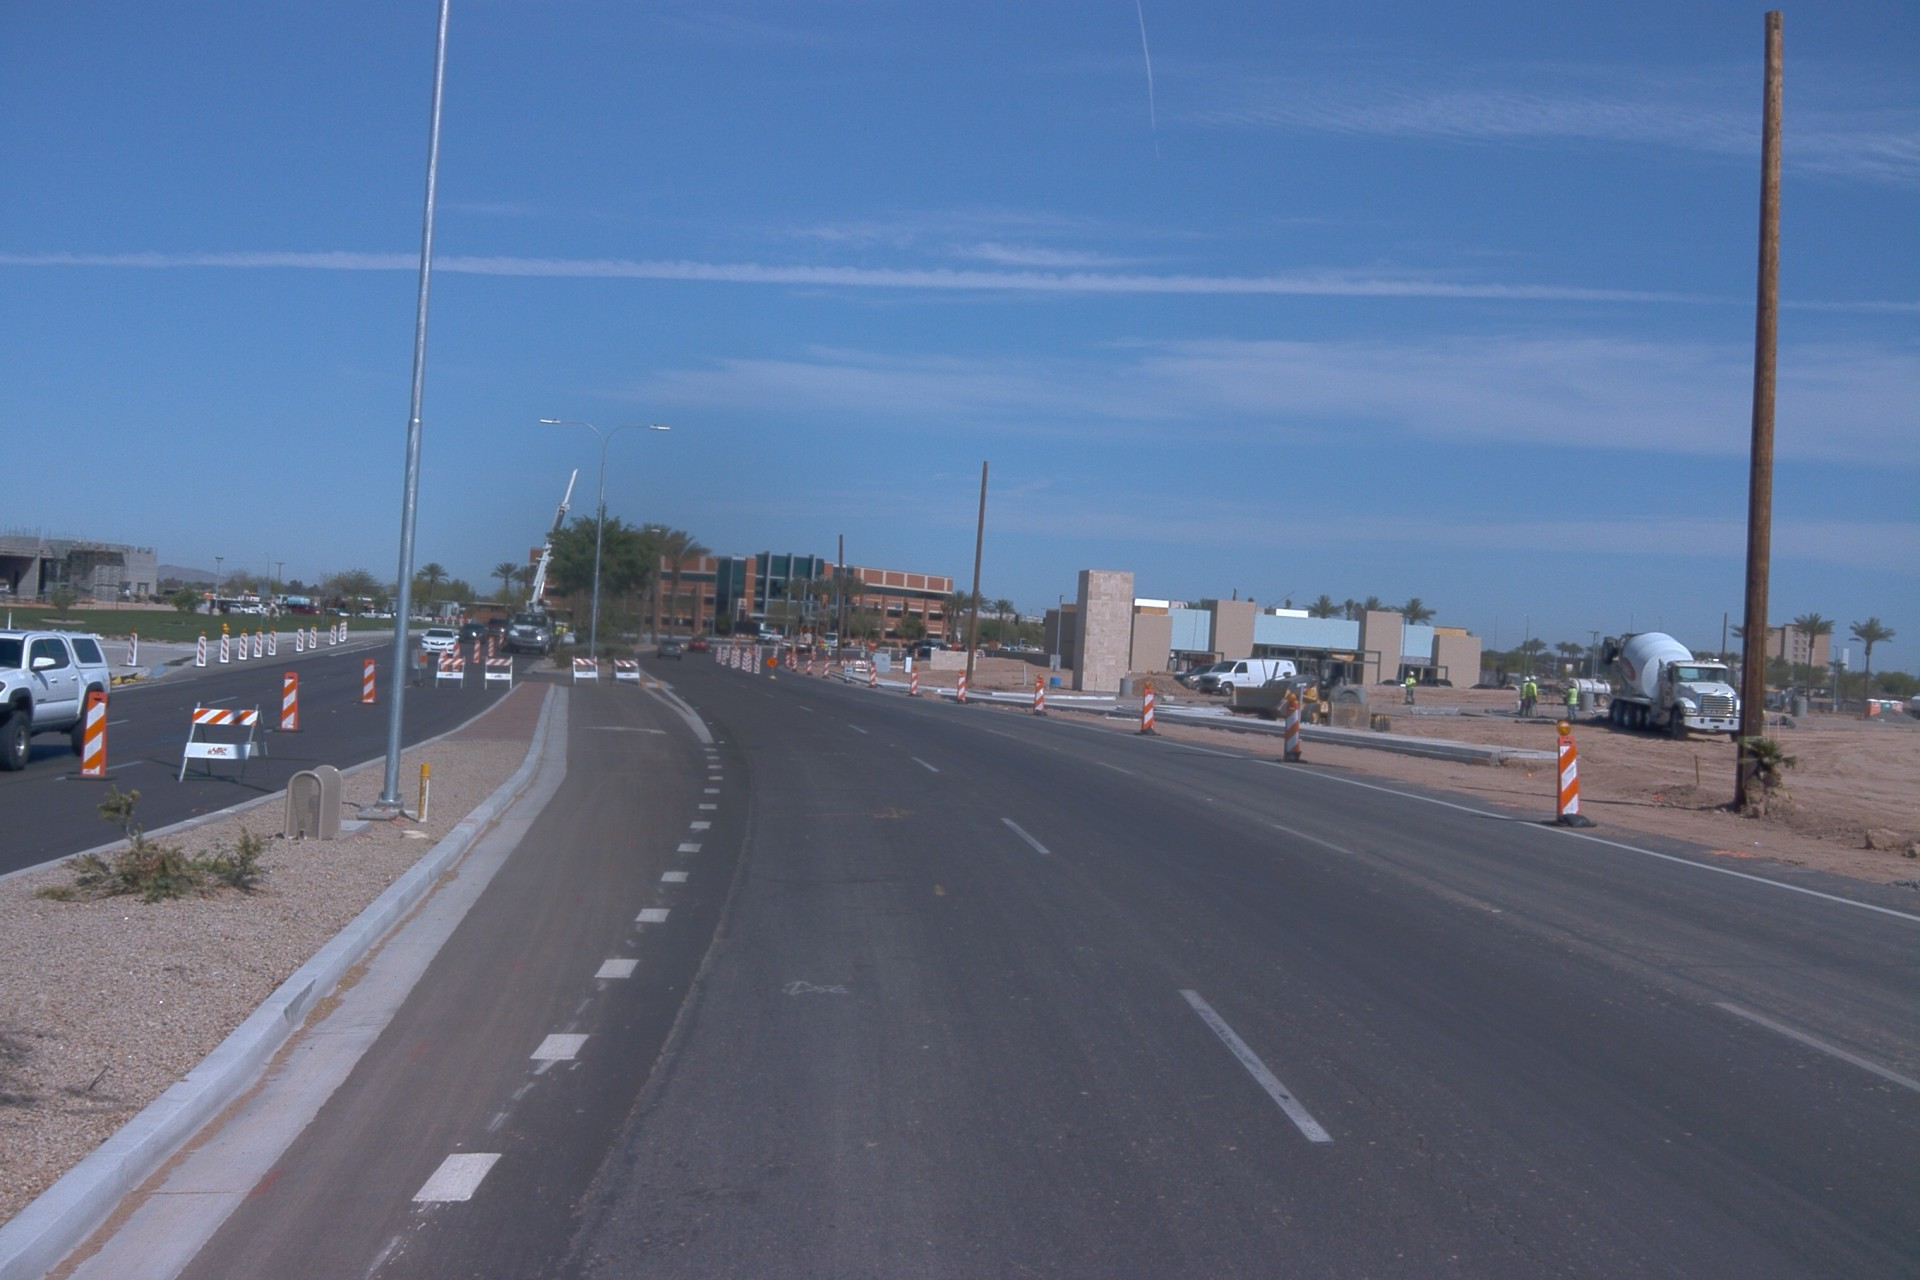TYPE_PEDESTRIAN: (1563, 681, 1578, 724), (1523, 674, 1537, 718), (1518, 675, 1532, 719), (1405, 670, 1417, 705), (1762, 706, 1770, 728), (555, 623, 563, 642), (561, 623, 569, 637), (823, 643, 830, 659)
TYPE_VEHICLE: (494, 465, 581, 659), (0, 631, 111, 768), (1194, 659, 1299, 699), (1558, 675, 1618, 709), (729, 617, 763, 671), (780, 627, 830, 659), (1171, 663, 1219, 694), (1761, 681, 1800, 718), (420, 626, 464, 658), (918, 632, 962, 659), (821, 630, 861, 655), (481, 614, 510, 640), (656, 639, 686, 663), (288, 601, 327, 618), (686, 636, 714, 656), (459, 623, 488, 642), (360, 604, 394, 619), (755, 630, 785, 646), (207, 597, 233, 615), (225, 603, 257, 617), (1417, 678, 1453, 690), (1908, 689, 1920, 722), (247, 600, 271, 616), (1537, 681, 1558, 697), (1376, 679, 1407, 689), (1467, 682, 1500, 691), (276, 603, 295, 616), (0, 579, 11, 594), (1502, 683, 1521, 690)
